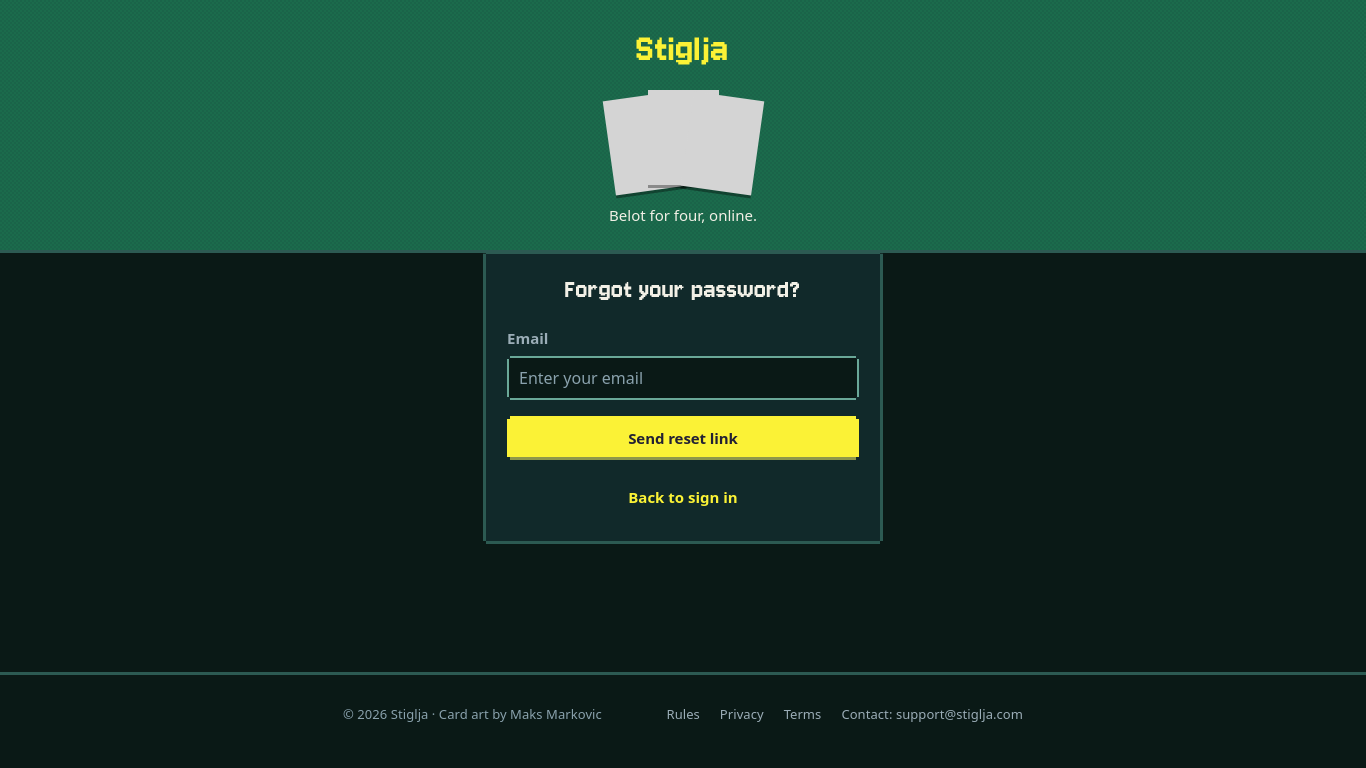
Test: ForgotPasswordPage › a malformed address is caught before sending
Type "not-an-address" into the field labelled "Email" at (683, 378), box top-left (507, 356), bottom-right (859, 400)
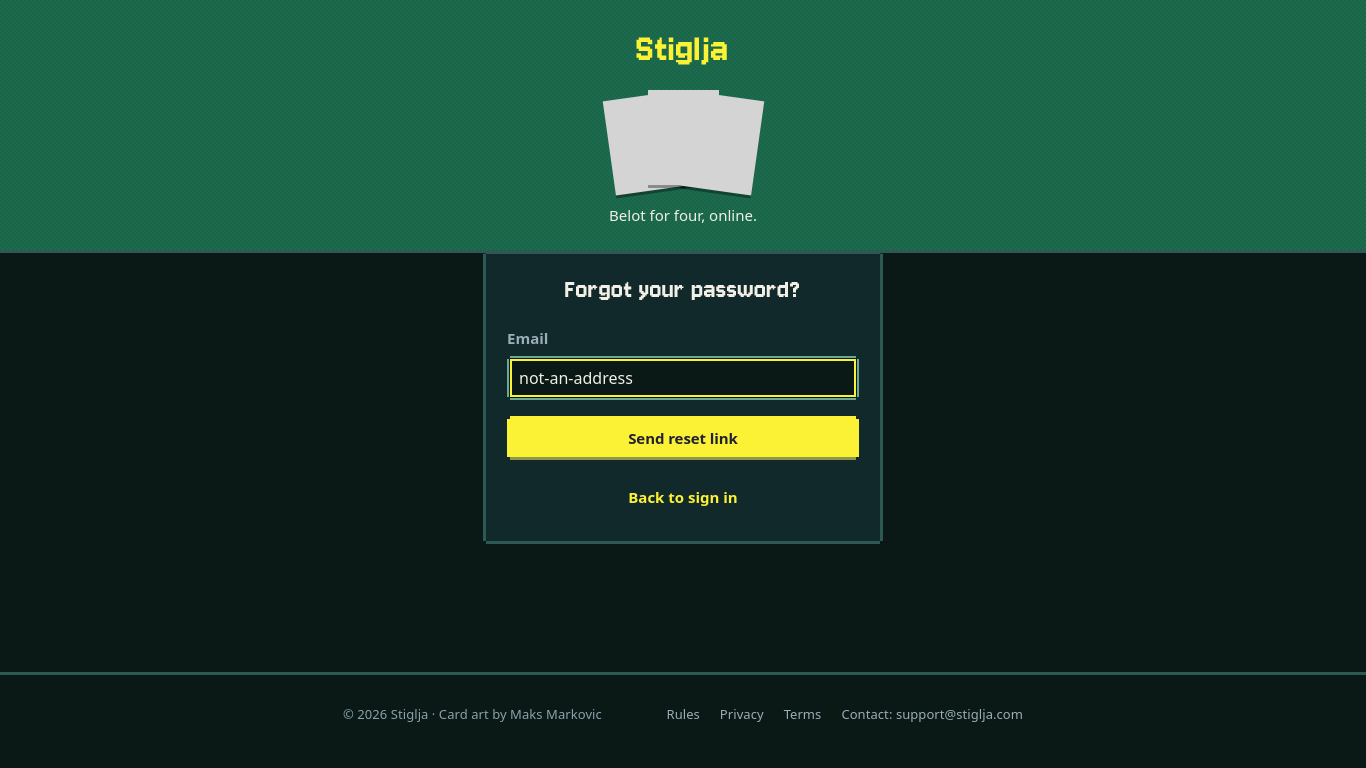
Click the button "Send reset link" at (683, 438), box top-left (507, 416), bottom-right (859, 460)
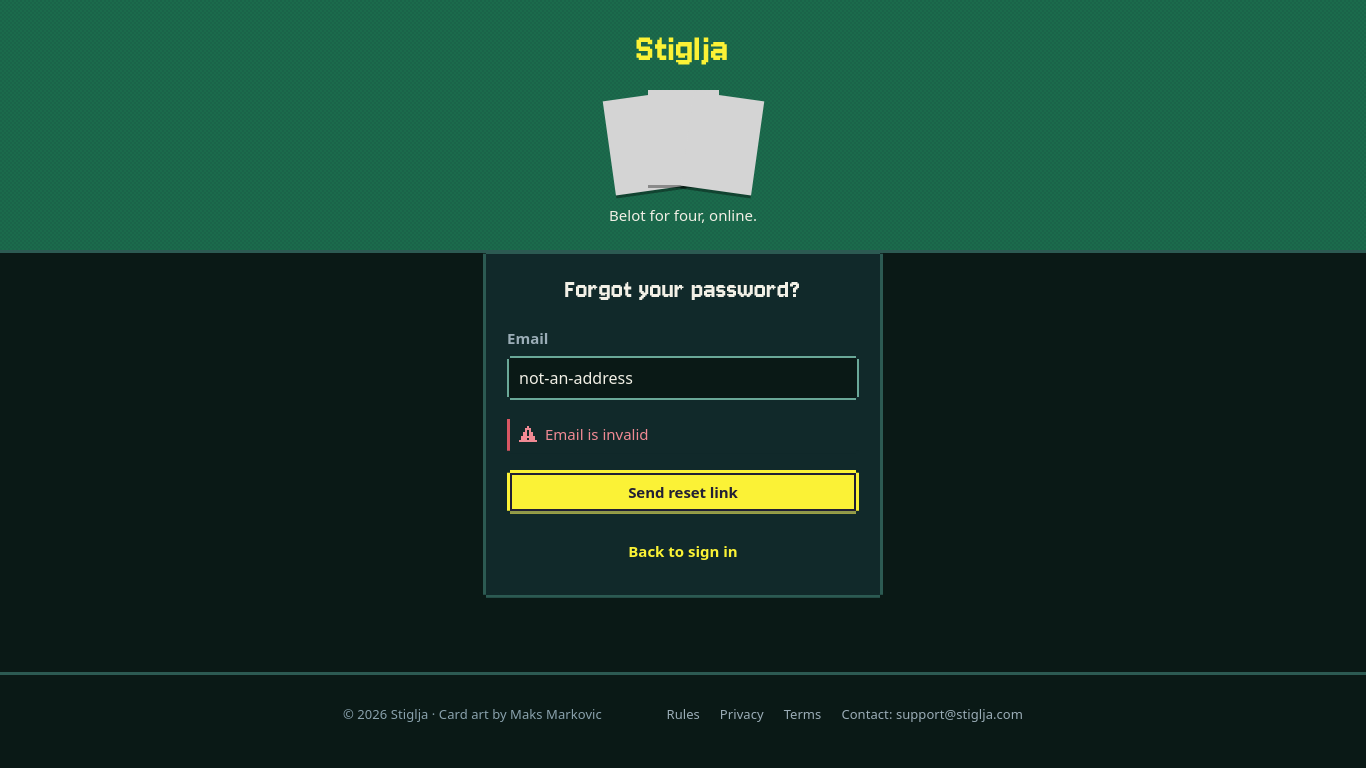
Result: the message reads "Email is invalid" at top-left (545, 424), bottom-right (648, 444)
